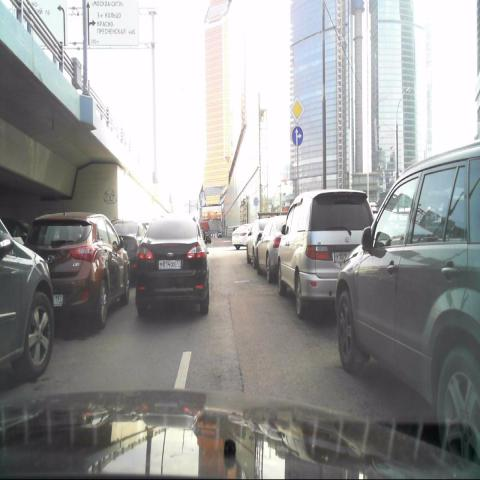2_1: (289, 94, 305, 125)
